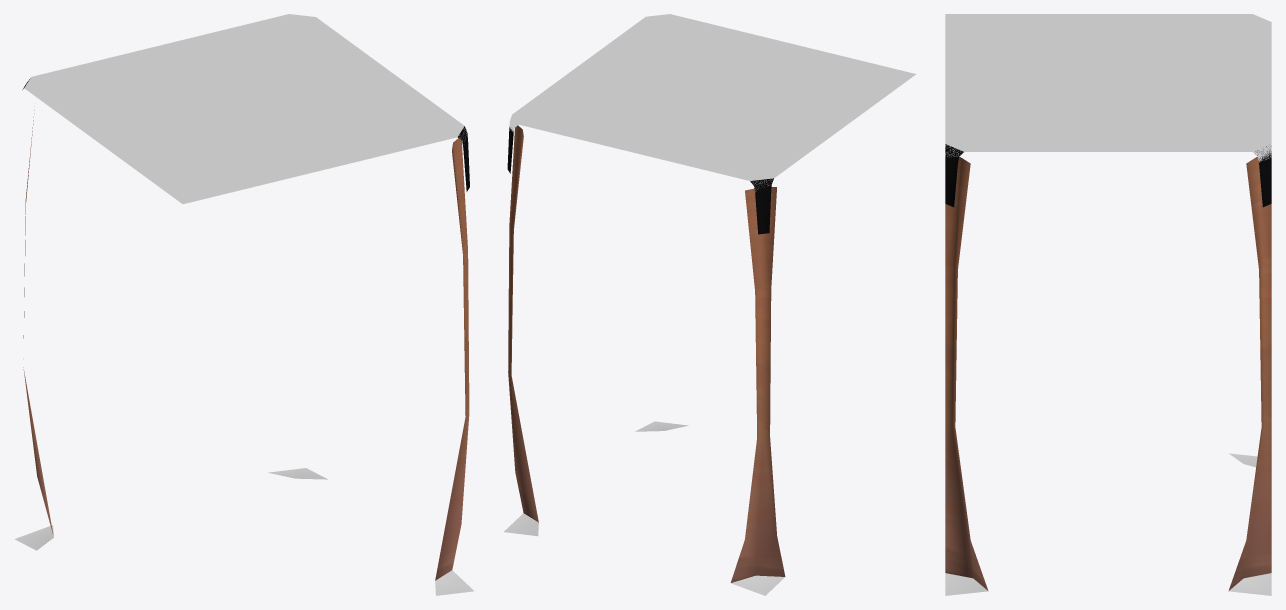
3 renders of one model, left to right at view 1: azimuth 30°, elevation 25°; view 2: azimuth 150°, elevation 25°; view 3: azimuth 270°, elevation 25°, orthographic. The views are drawn at different scales.
Parts seen in each view (by area): view 1: GrassT__mGrass, CliffThin_1__mCliff, GrassB_1__mGrass; view 2: GrassT__mGrass, CliffThin_1__mCliff, GrassB_1__mGrass, GrassOP_1__mGrassCliffXlu; view 3: GrassT__mGrass, CliffThin_1__mCliff, GrassB_1__mGrass, GrassOP_1__mGrassCliffXlu.
Part boxes in pixels (x1,y1,x2,y2): GrassT__mGrass: (23,14,466,204); CliffThin_1__mCliff: (23,106,469,580); GrassB_1__mGrass: (14,468,474,595); GrassT__mGrass: (509,14,916,192); CliffThin_1__mCliff: (508,125,785,582); GrassB_1__mGrass: (504,421,784,595); GrassOP_1__mGrassCliffXlu: (507,127,773,234); GrassT__mGrass: (945,14,1271,162); CliffThin_1__mCliff: (945,157,1271,590); GrassB_1__mGrass: (945,453,1271,595); GrassOP_1__mGrassCliffXlu: (945,144,1271,207).
Bounding box in the file's own units: 10 × 15 × 10.
3 materials, 1 textured.
